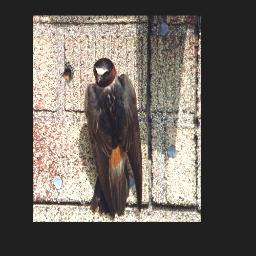Swallow: (85, 57, 144, 220)
